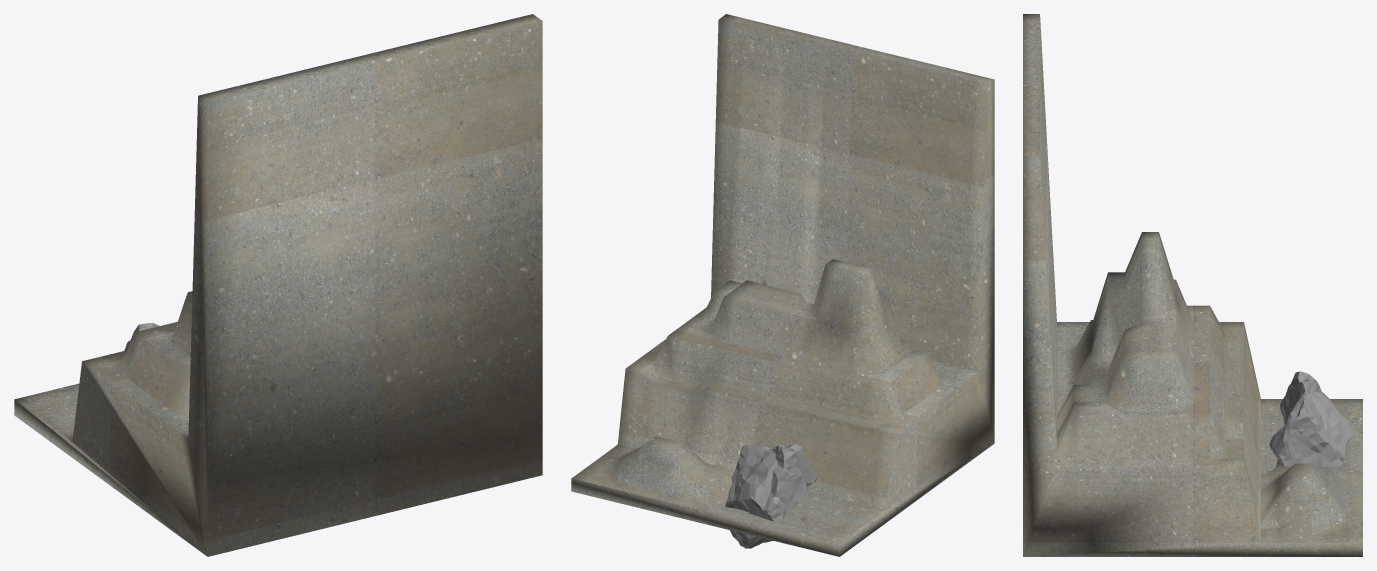
Rendered from left2.fbx.
The picture shows the model from 3 angles, left to right: view 1: azimuth 30°, elevation 25°; view 2: azimuth 150°, elevation 25°; view 3: azimuth 270°, elevation 25°; orthographic projection. The views are drawn at different scales.
Parts seen in each view (by area): view 1: Model; view 2: Model, skp59B9_1; view 3: Model, skp59B9_1.
Boxes of the visible parts, x1=… form: Model: x1=14, y1=14, x2=542, y2=556; Model: x1=571, y1=14, x2=994, y2=556; skp59B9_1: x1=725, y1=444, x2=817, y2=548; Model: x1=1023, y1=14, x2=1362, y2=556; skp59B9_1: x1=1269, y1=371, x2=1353, y2=467.
Size of the model in its own units: 1000 by 1435 by 1000.
